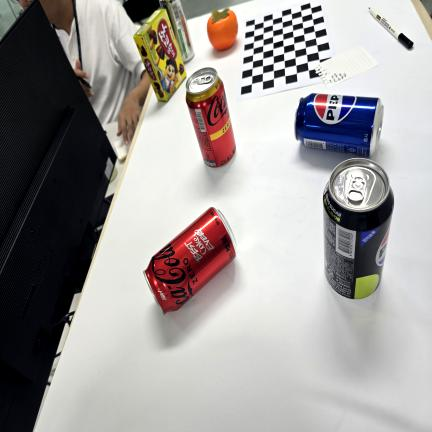can_coke_decaf: (186, 68, 236, 167)
can_coke_zero: (144, 207, 236, 313)
can_pepsi: (295, 93, 384, 157)
can_pepsi_zero: (323, 158, 394, 299)
